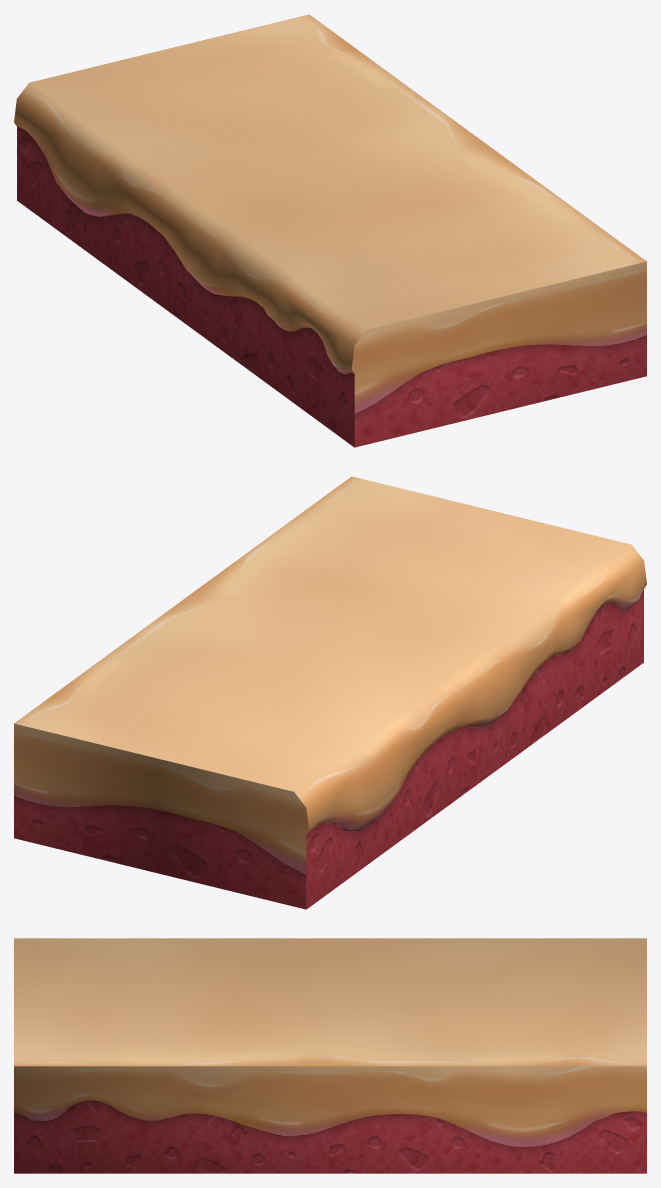
File: scenes_candy_road01.FBX
3 views of the same model, one above another, from view 1: azimuth 30°, elevation 25°; view 2: azimuth 150°, elevation 25°; view 3: azimuth 270°, elevation 25° (orthographic). The views are drawn at different scales.
Parts seen in each view (by area): view 1: scenes_candy_road01; view 2: scenes_candy_road01; view 3: scenes_candy_road01.
Boxes of the visible parts, <box> form: scenes_candy_road01: <box>14,14,646,447</box>; scenes_candy_road01: <box>14,476,646,909</box>; scenes_candy_road01: <box>14,938,646,1173</box>.
Bounding box in the file's own units: 825 × 300 × 1600.
